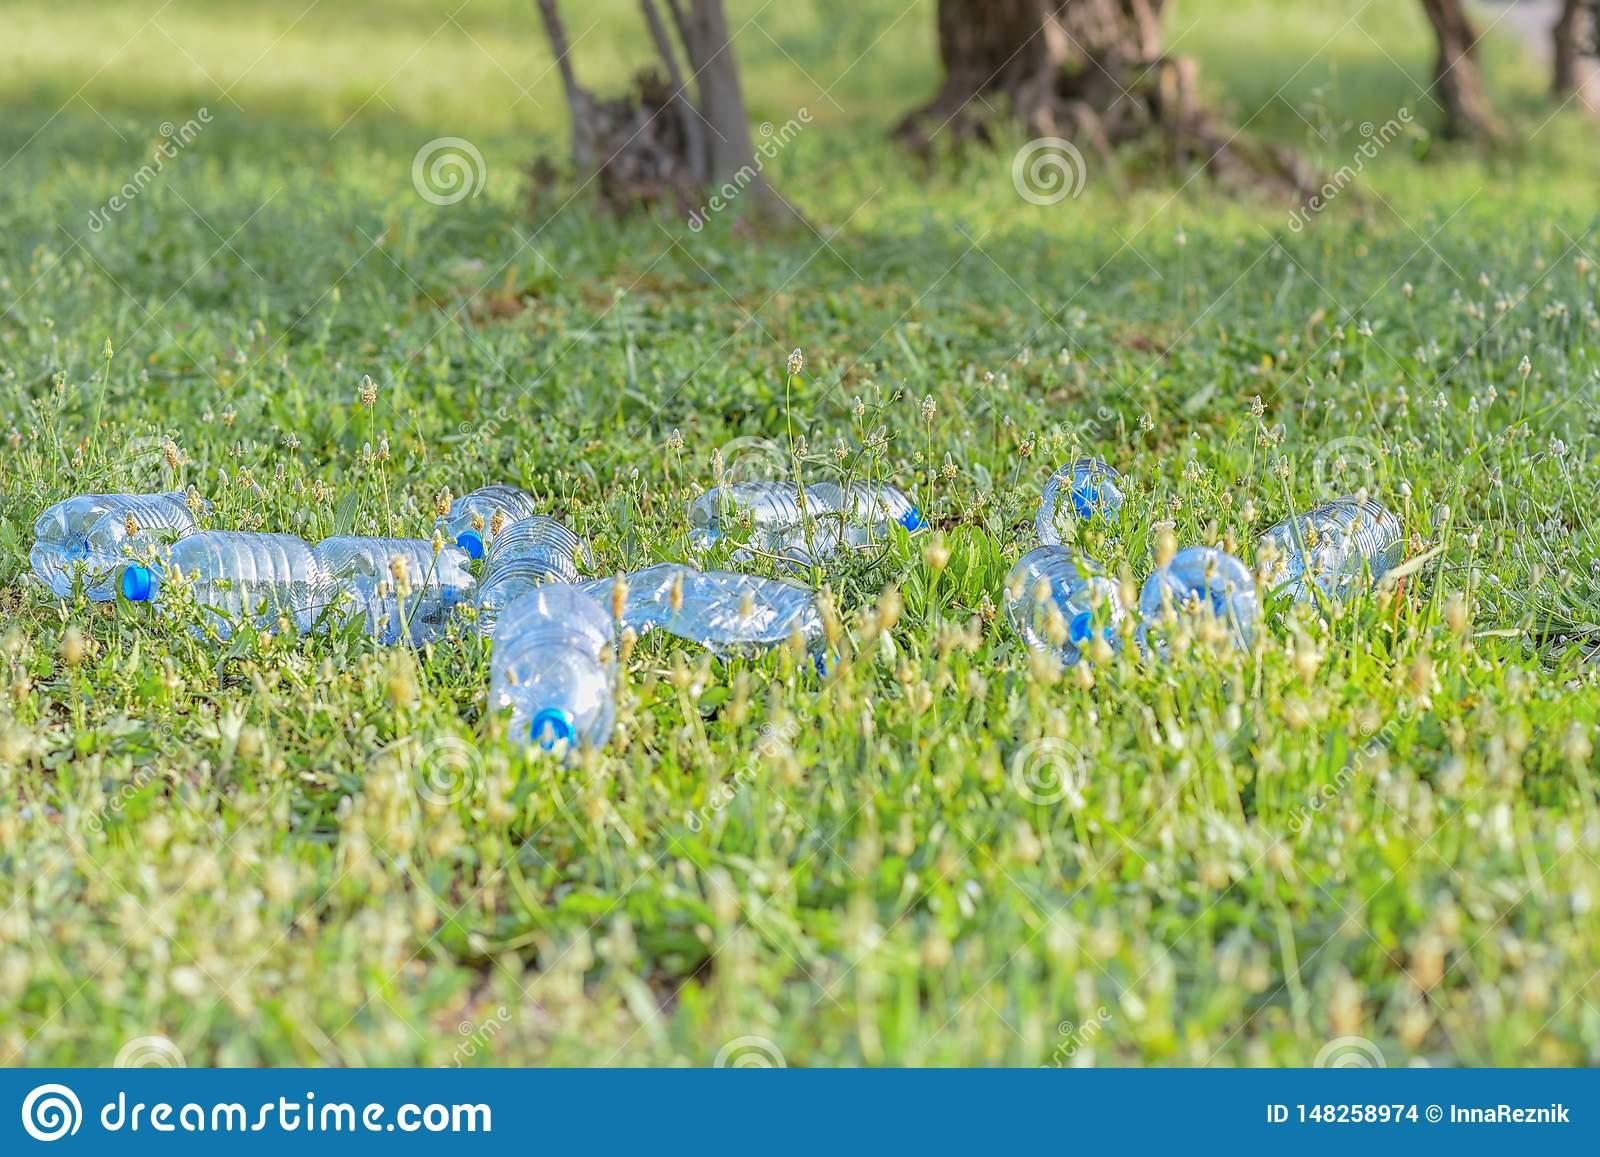bottle: (101, 507, 443, 676), (668, 456, 958, 580), (478, 560, 624, 783)
